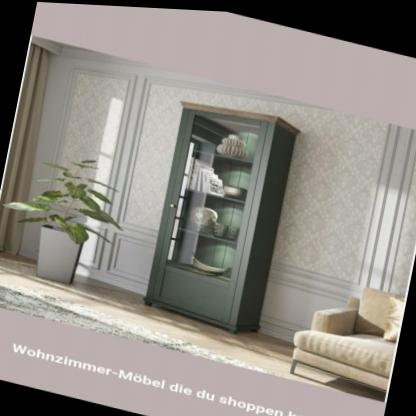Cupboard: (138, 87, 304, 336)
